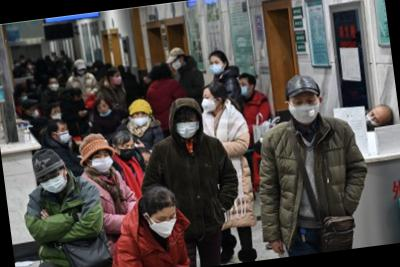mask_weared_incorrect: (96, 102, 112, 119)
with_mask: (287, 95, 324, 128), (149, 210, 181, 241), (174, 115, 203, 142), (38, 170, 68, 196), (89, 149, 115, 177), (364, 108, 382, 133), (117, 143, 138, 164), (200, 94, 219, 115), (132, 109, 151, 129), (56, 125, 72, 145), (208, 59, 224, 76), (47, 77, 61, 93), (240, 80, 251, 99), (170, 58, 184, 71), (29, 103, 39, 120), (113, 72, 123, 86), (52, 108, 62, 121), (19, 91, 29, 104), (74, 95, 85, 106), (78, 67, 87, 77)
